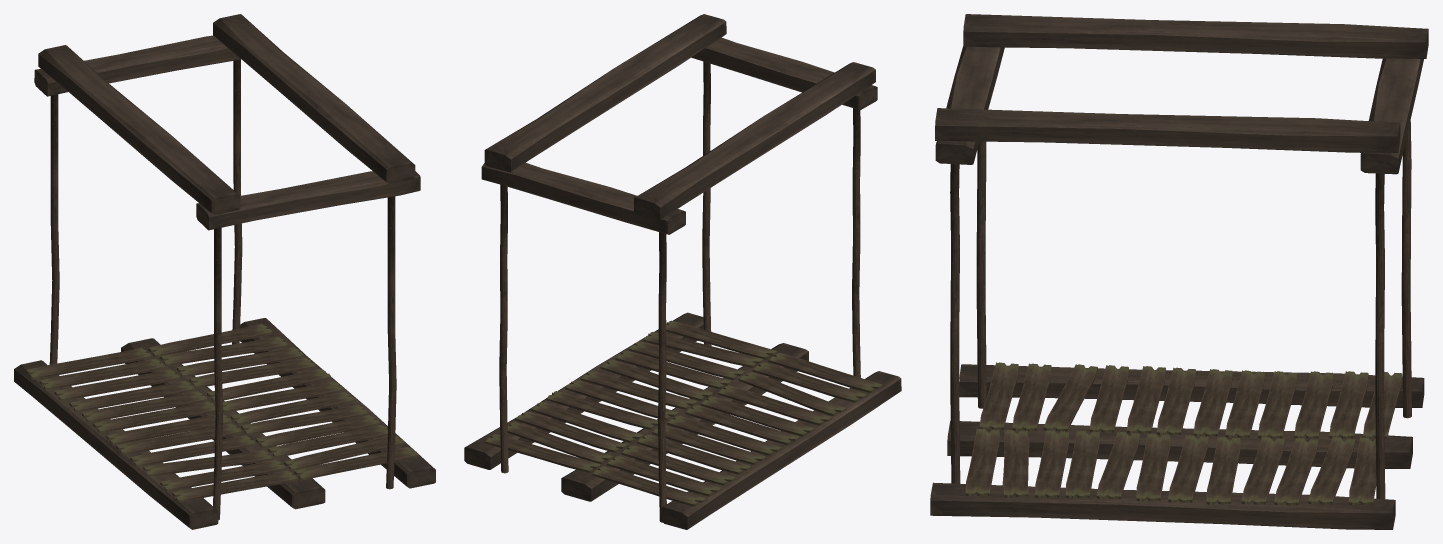
File: SM_Elevator.fbx
The picture shows the model from 3 angles, left to right: view 1: azimuth 30°, elevation 25°; view 2: azimuth 150°, elevation 25°; view 3: azimuth 270°, elevation 25°; orthographic projection. The views are drawn at different scales.
Visible parts, largest first — view 1: SM_Elevator; view 2: SM_Elevator; view 3: SM_Elevator.
Part boxes in pixels (x1,y1,x2,y2): SM_Elevator: (14, 14, 435, 529); SM_Elevator: (464, 14, 901, 529); SM_Elevator: (930, 14, 1428, 529).
Size of what is drawn, in the model's own units: 300 by 362 by 422.
